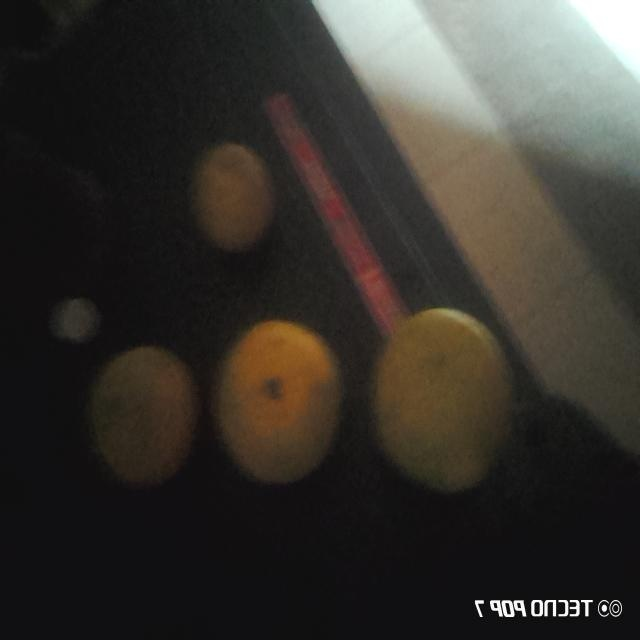agrume: (371, 303, 517, 497), (218, 315, 342, 495), (88, 348, 199, 490), (192, 150, 268, 250)
